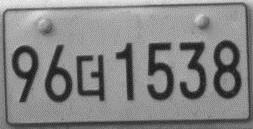1: (111, 41, 142, 102)
3: (177, 40, 207, 99)
5: (145, 41, 175, 100)
6: (42, 43, 74, 102)
8: (212, 39, 241, 100)
9: (10, 44, 40, 103)
더: (75, 53, 106, 103)
